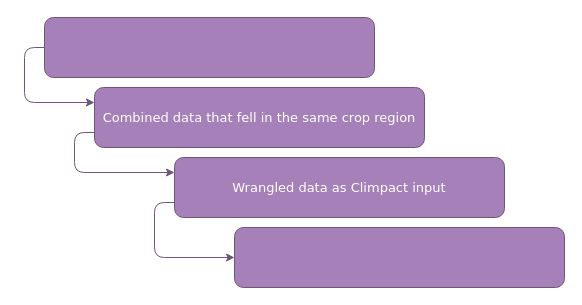
Some shapes in this 582 by 305 pixel diagram are drawn without their labels. Each missing label, with the box of its shape:
Obtained climate data from NOAA HCN: (44, 16, 374, 78)
Used Climpact output indices to calculate trends: (234, 226, 564, 288)
